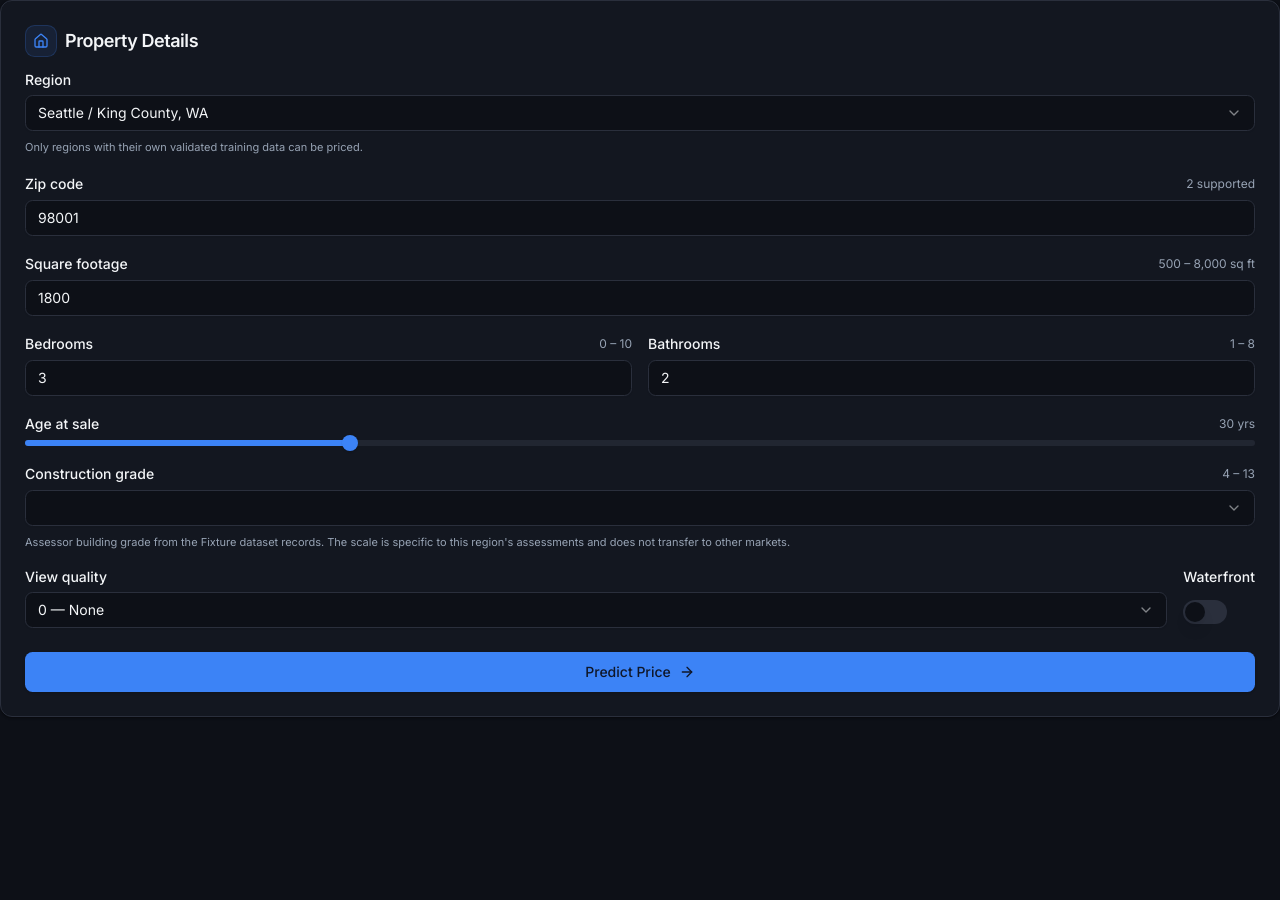
Test case: PredictionForm › blocks invalid input client-side and highlights the field
Step 1. Replace the text in the field labelled "Square footage" with "abc" → (640, 298), box [25, 280, 1255, 316]
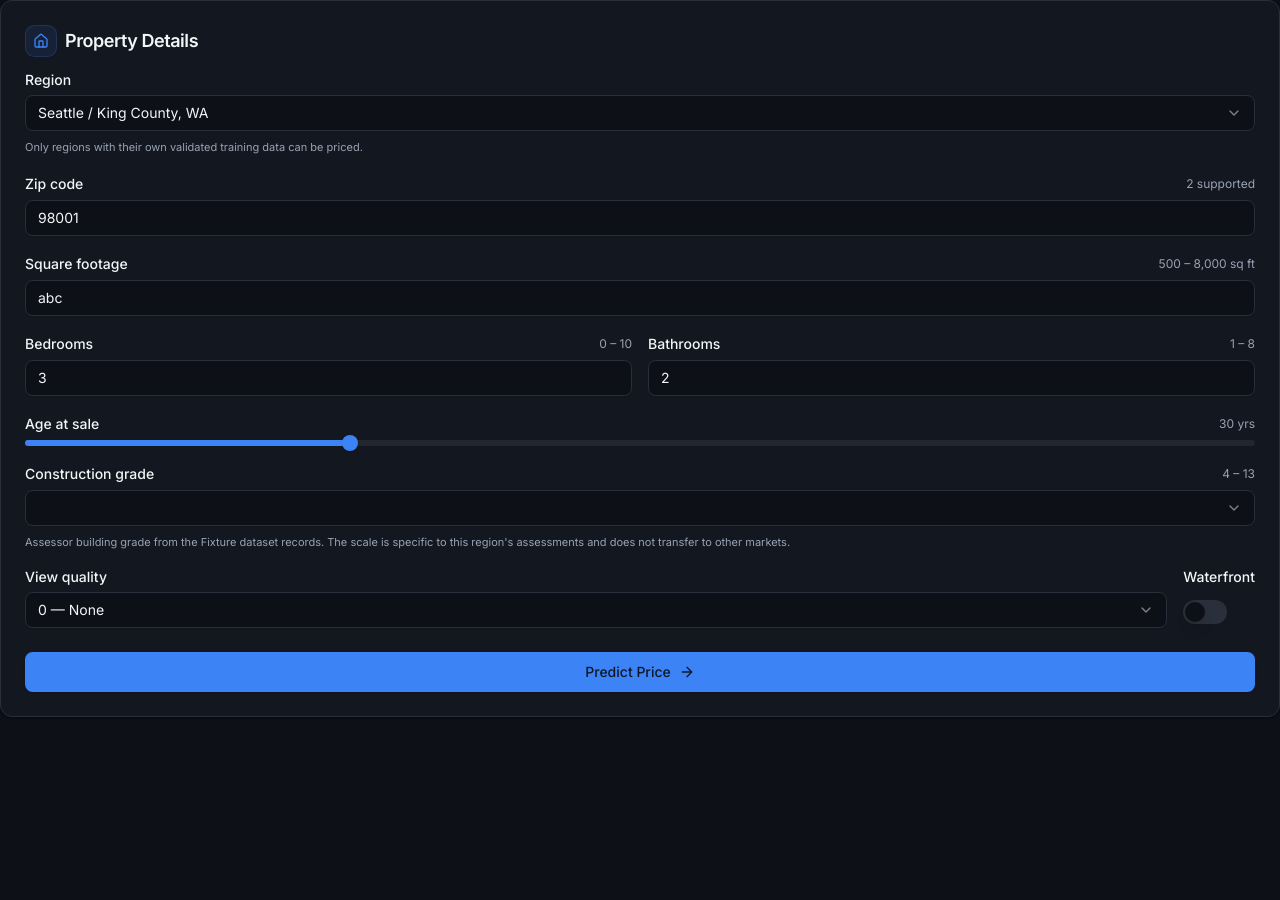
Step 2. Click the button "Predict Price" → click(640, 672), box [25, 652, 1255, 692]
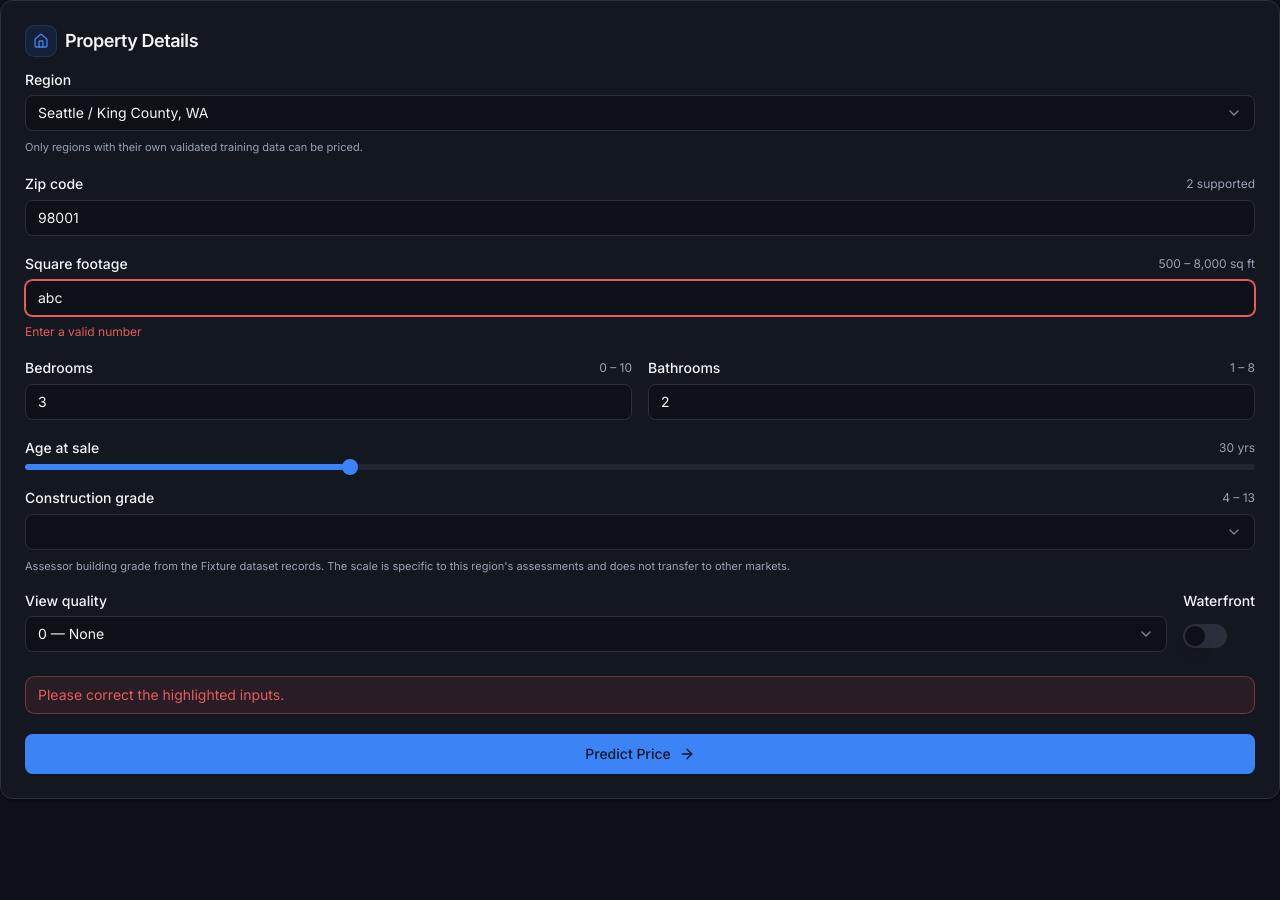
Check: the text "Enter a valid number" is shown, box [25, 324, 142, 338]
Check: the message reads "Please correct the highlighted inputs.", box [38, 686, 284, 703]
